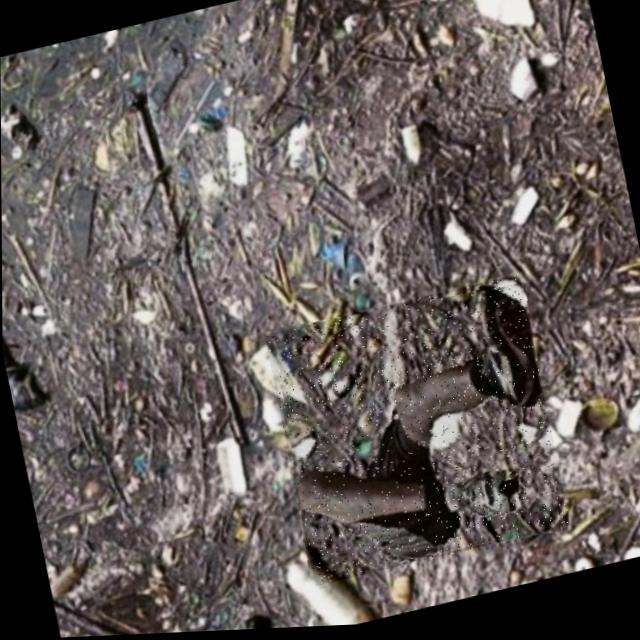Person in Rubble: (264, 276, 570, 590)
